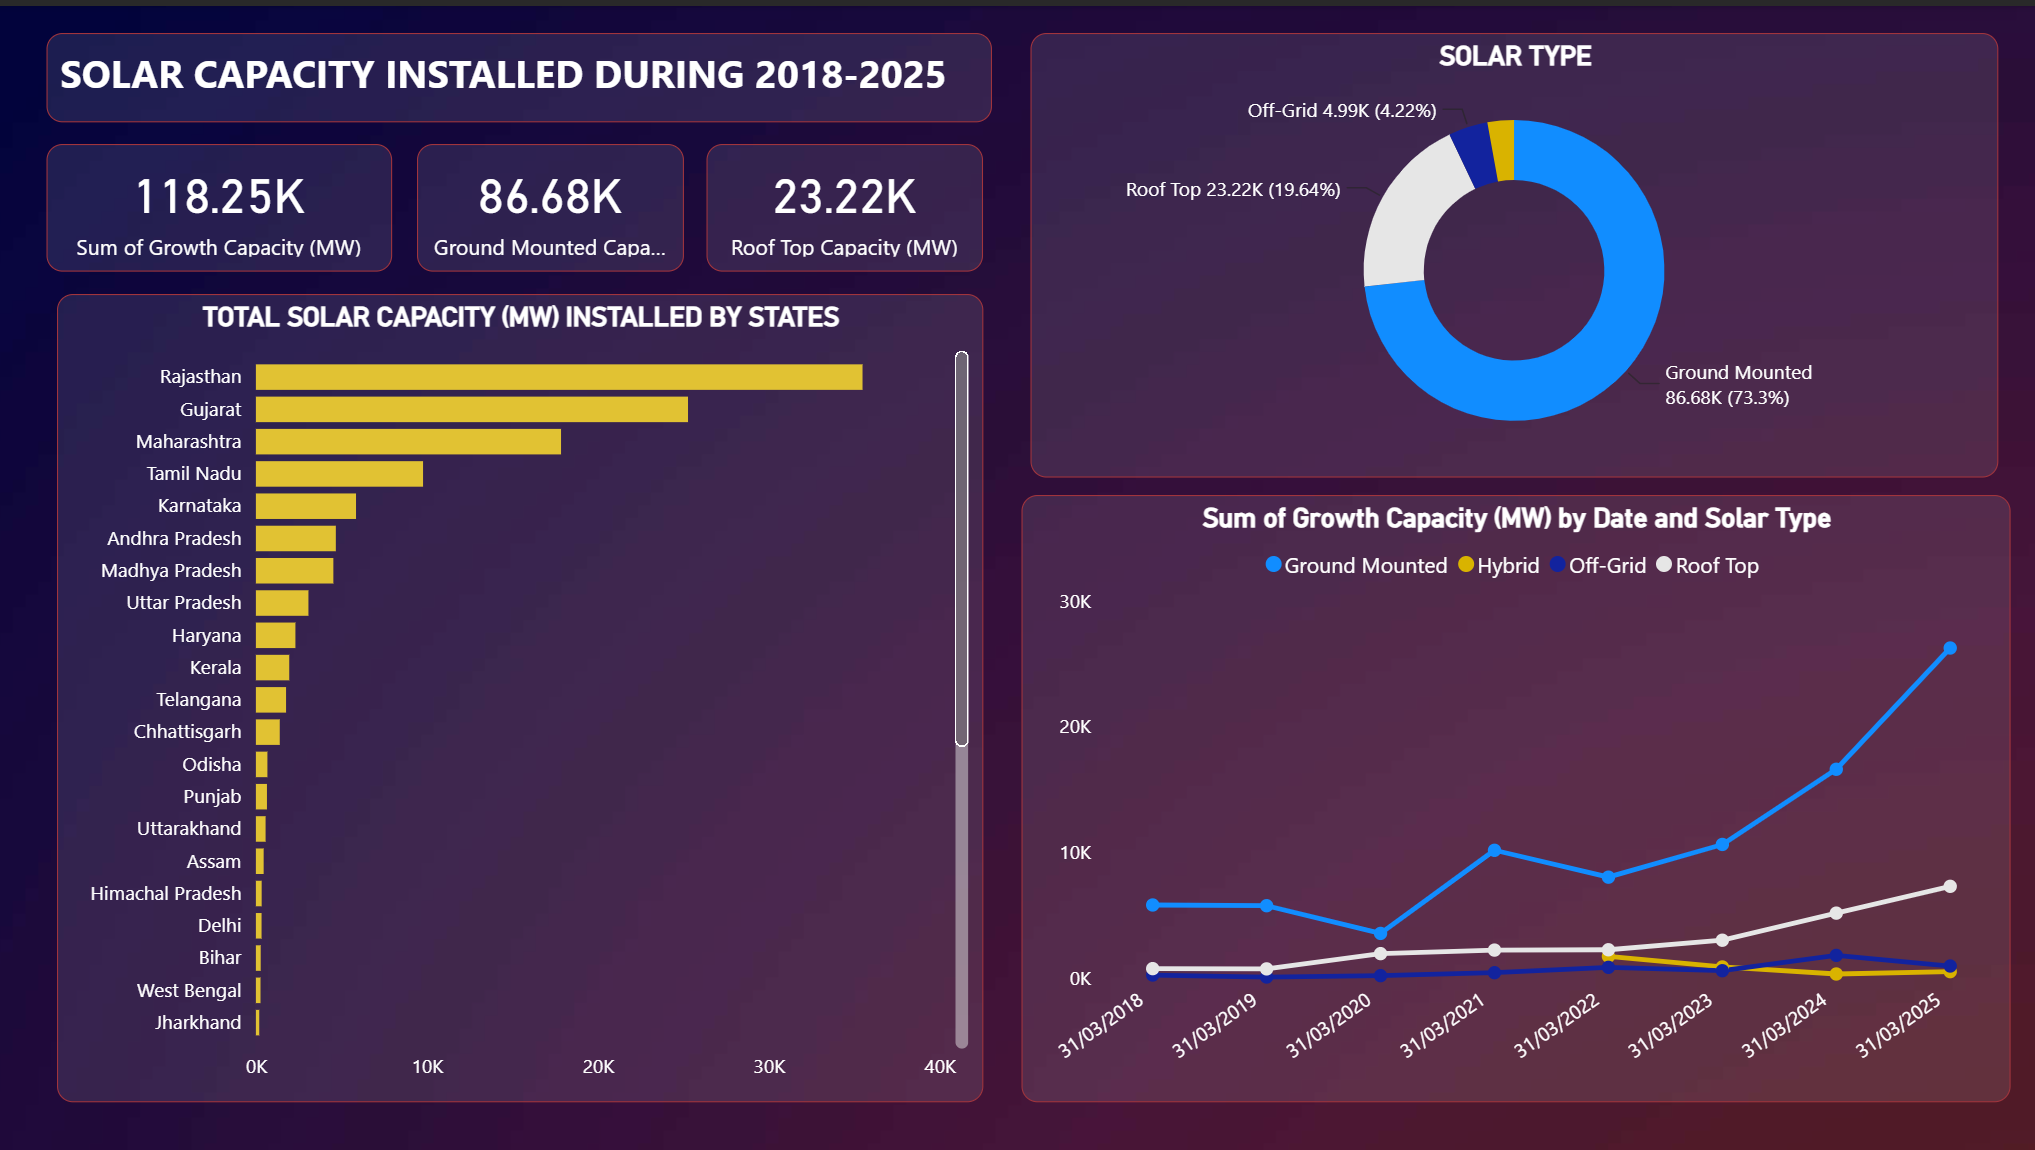

The dashboard page shown, as its layout file describes it:
{"tool":"powerbi","page":{"name":"solar growth","canvas":[1280,720],"ordinal":1},"visuals":[{"type":"clusteredBarChart","title":"TOTAL SOLAR CAPACITY (MW) INSTALLED BY STATES","fields":{"Category":["Sheet1.State "],"Y":["Sum(Sheet1.Growth Capacity (MW))"]},"box":[35.9,180.7,580.6,506.3],"z":0},{"type":"card","fields":{"Values":["Sum(Sheet1.Growth Capacity (MW))"]},"box":[28.7,86.2,216.7,80.2],"z":1000},{"type":"textbox","box":[28.7,16.8,592.5,56.3],"z":2000},{"type":"lineChart","fields":{"Series":["Sheet1.Solar Type"],"Y":["Sum(Sheet1.Growth Capacity (MW))"],"Category":["Sheet1.Date"]},"box":[640.4,306.4,620.1,380.7],"z":3000},{"type":"donutChart","title":"SOLAR TYPE","fields":{"Category":["Sheet1.Solar Type"],"Y":["Sum(Sheet1.Growth Capacity (MW))"]},"box":[646.4,16.8,606.9,278.9],"z":4000},{"type":"card","fields":{"Values":["Sheet1.Roof Top Capacity (MW)"]},"box":[442.9,86.2,173.6,80.2],"z":5000},{"type":"card","fields":{"Values":["Sheet1.Ground Mounted Capacity (MW)"]},"box":[260.9,86.2,167.6,80.2],"z":6000}]}

Visuals, with their boxes in screenshot pixels (x1, y1, x2, y2), scaled from the page's 1280x720 canvas onto the 2035x1150 screenshot:
"TOTAL SOLAR CAPACITY (MW) INSTALLED BY STATES" clusteredBarChart: <bbox>57, 289, 980, 1097</bbox>
card - Sum(Sheet1.Growth Capacity (MW)): <bbox>46, 138, 390, 266</bbox>
textbox: <bbox>46, 27, 988, 117</bbox>
lineChart - Sheet1.Solar Type x Sum(Sheet1.Growth Capacity (MW)): <bbox>1018, 489, 2004, 1097</bbox>
"SOLAR TYPE" donutChart: <bbox>1028, 27, 1993, 472</bbox>
card - Sheet1.Roof Top Capacity (MW): <bbox>704, 138, 980, 266</bbox>
card - Sheet1.Ground Mounted Capacity (MW): <bbox>415, 138, 681, 266</bbox>
